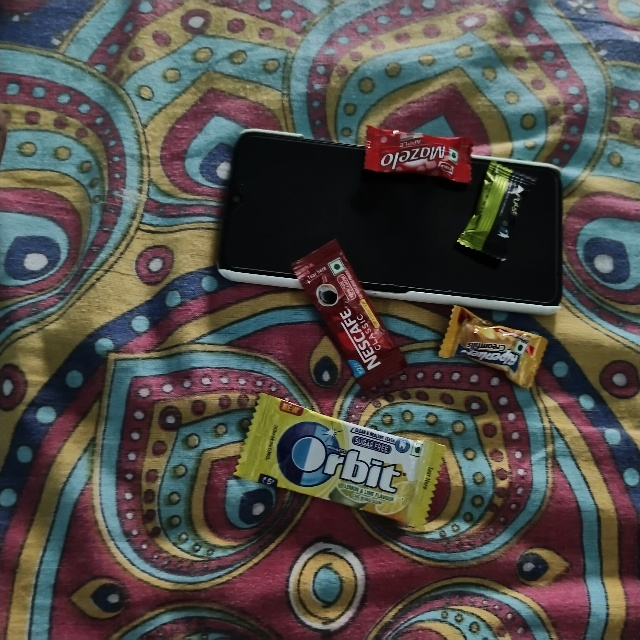Alpenlibe Creamfills: (458, 300, 556, 362)
Mazelo: (361, 123, 475, 184)
Nescafe Coffee: (281, 268, 343, 421)
Orbit: (258, 396, 454, 487)
Pulse: (489, 158, 537, 252)
